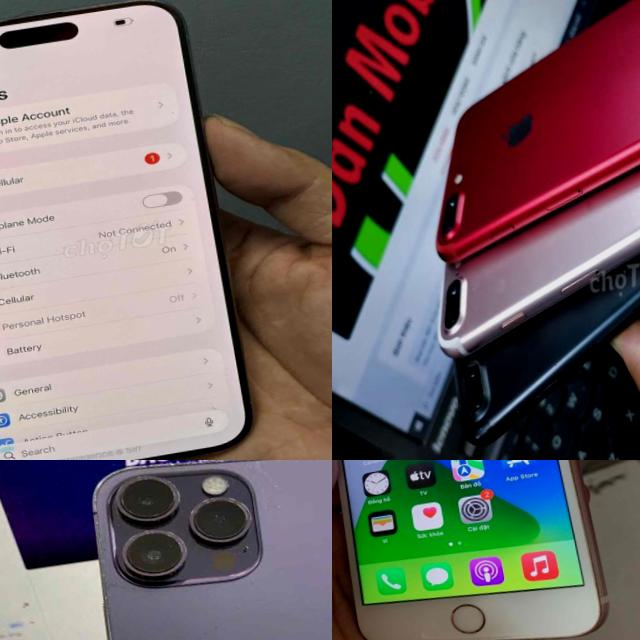gen_14: (68, 460, 332, 640)
gen_15: (0, 0, 283, 460)
gen_6: (332, 460, 622, 640)
gen_7_8: (440, 165, 640, 361)
